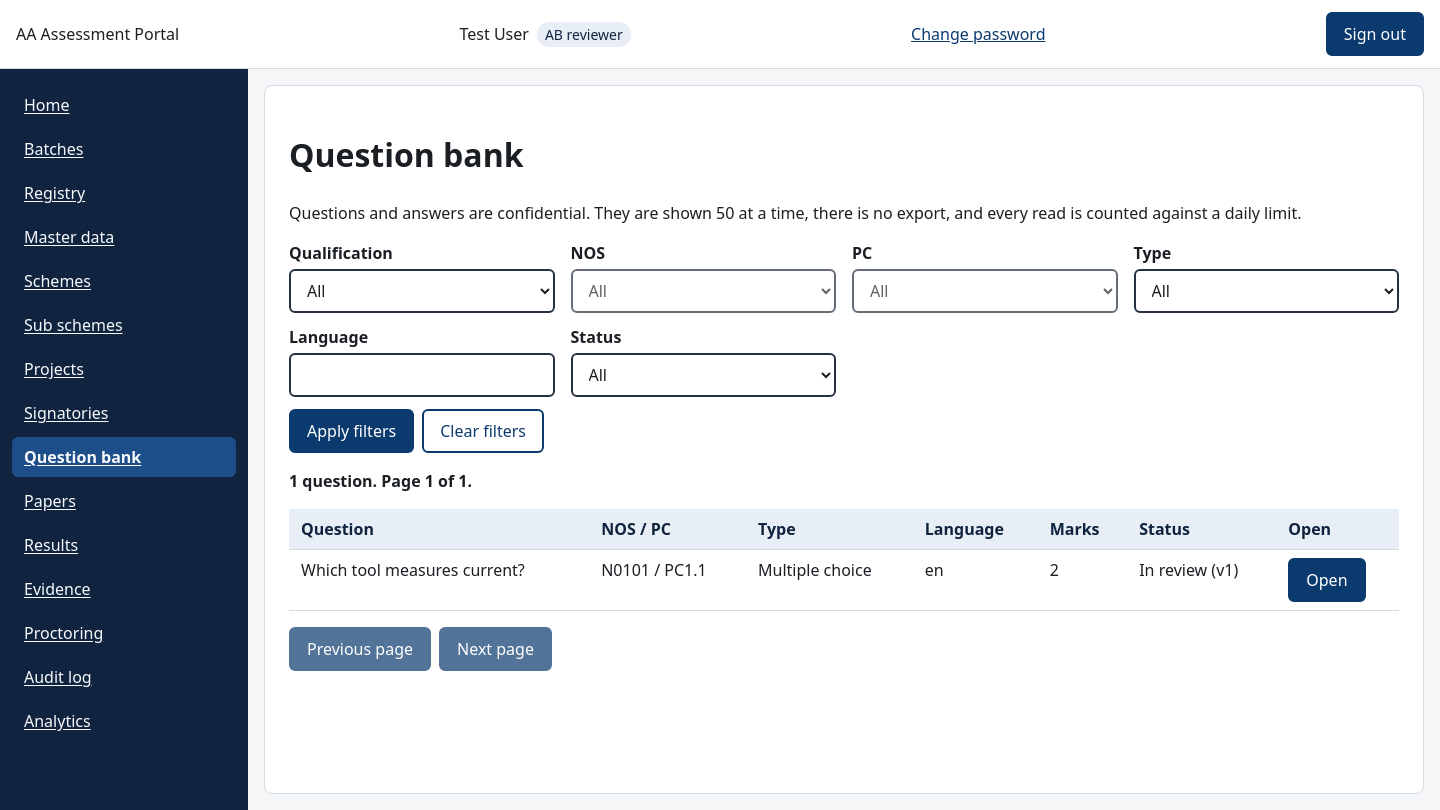
Test: lets the AB reviewer approve a question in review
Click the button "Open".
click(1327, 580)  # box [1288,558,1366,602]
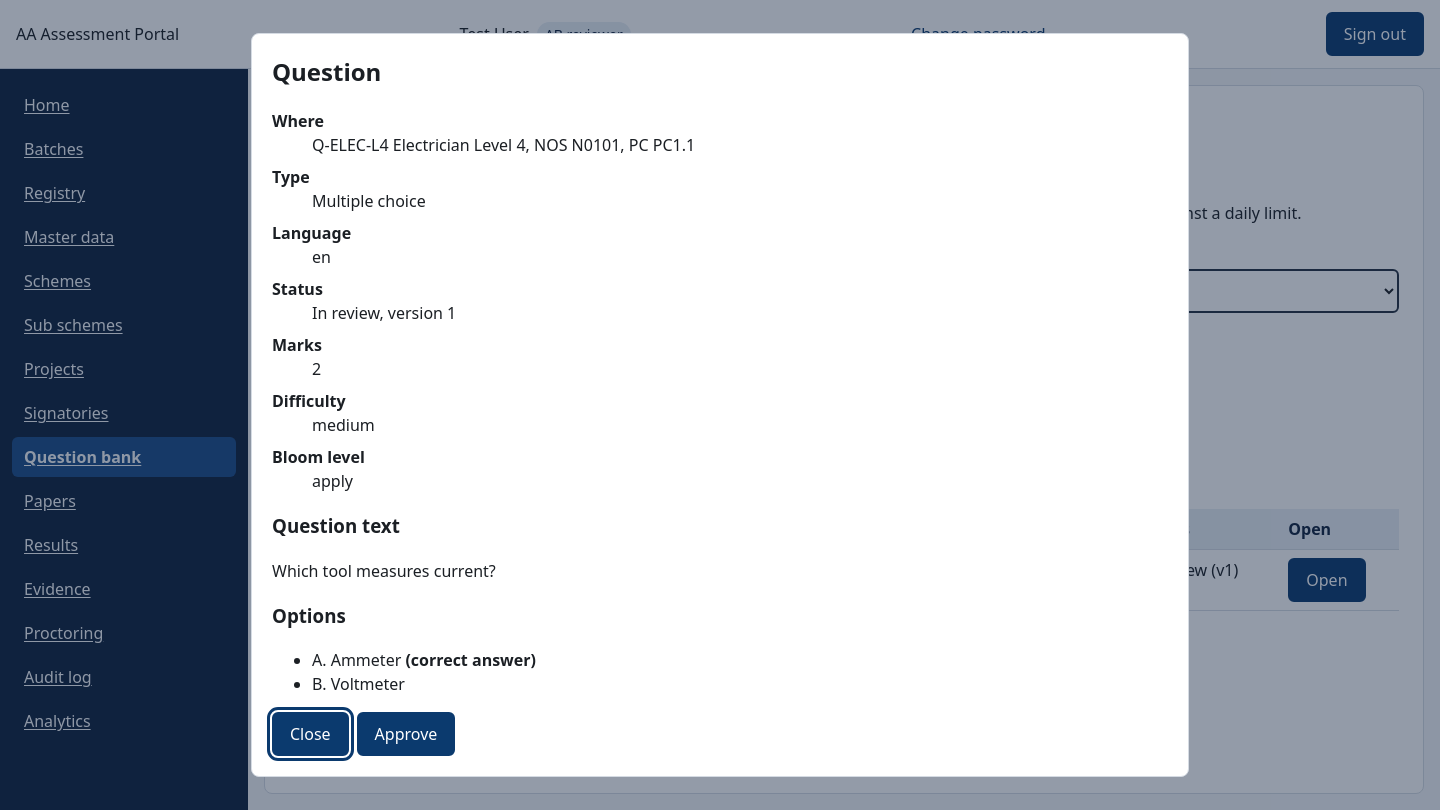
Check: the list item "A. Ammeter (correct answer)" is shown, box [312,650,536,672]
Check: the text "(correct answer)" is shown, box [401,650,536,672]
Click the button "Approve".
click(406, 734)  # box [357,712,455,756]
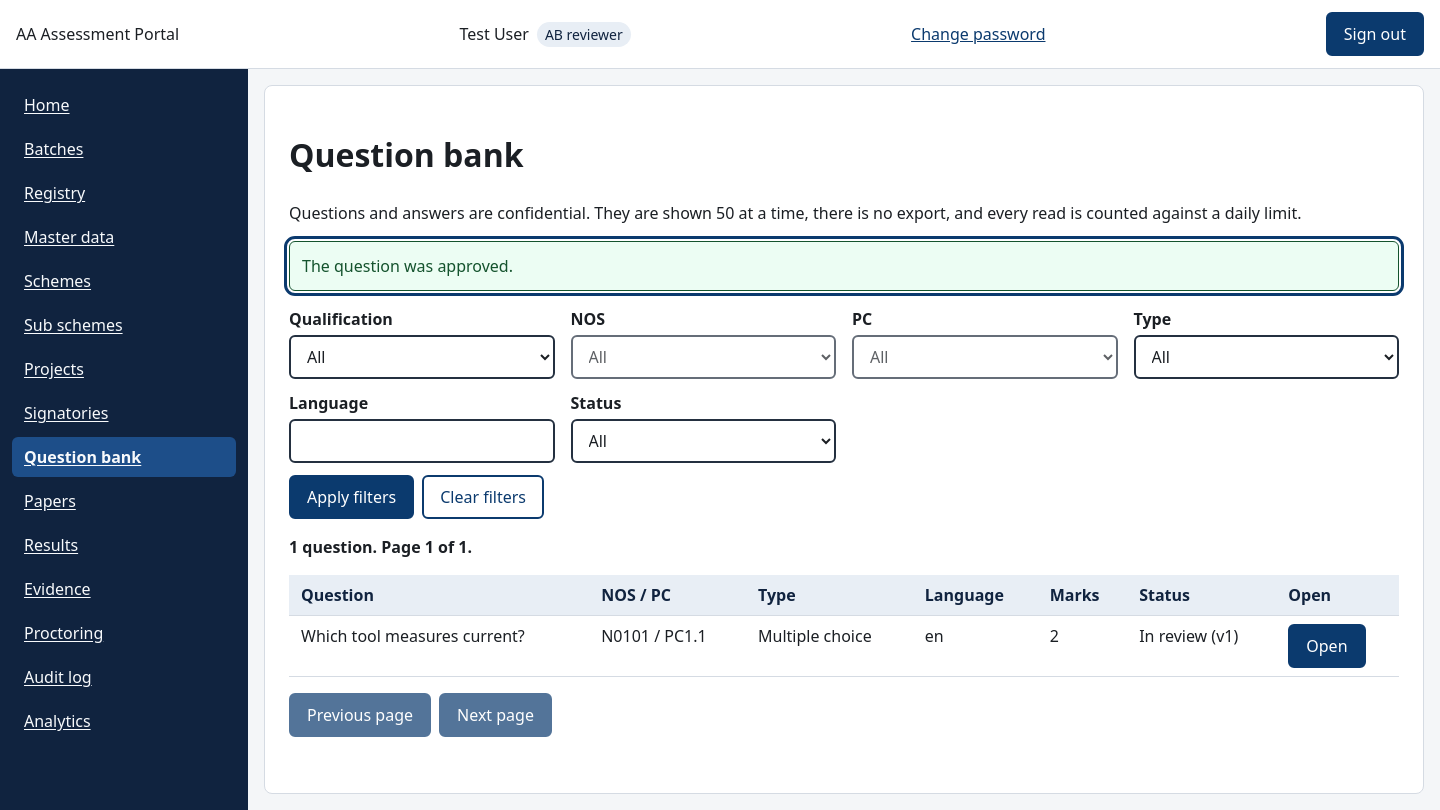
Check: the text "The question was approved." is shown, box [289,241,1399,291]
